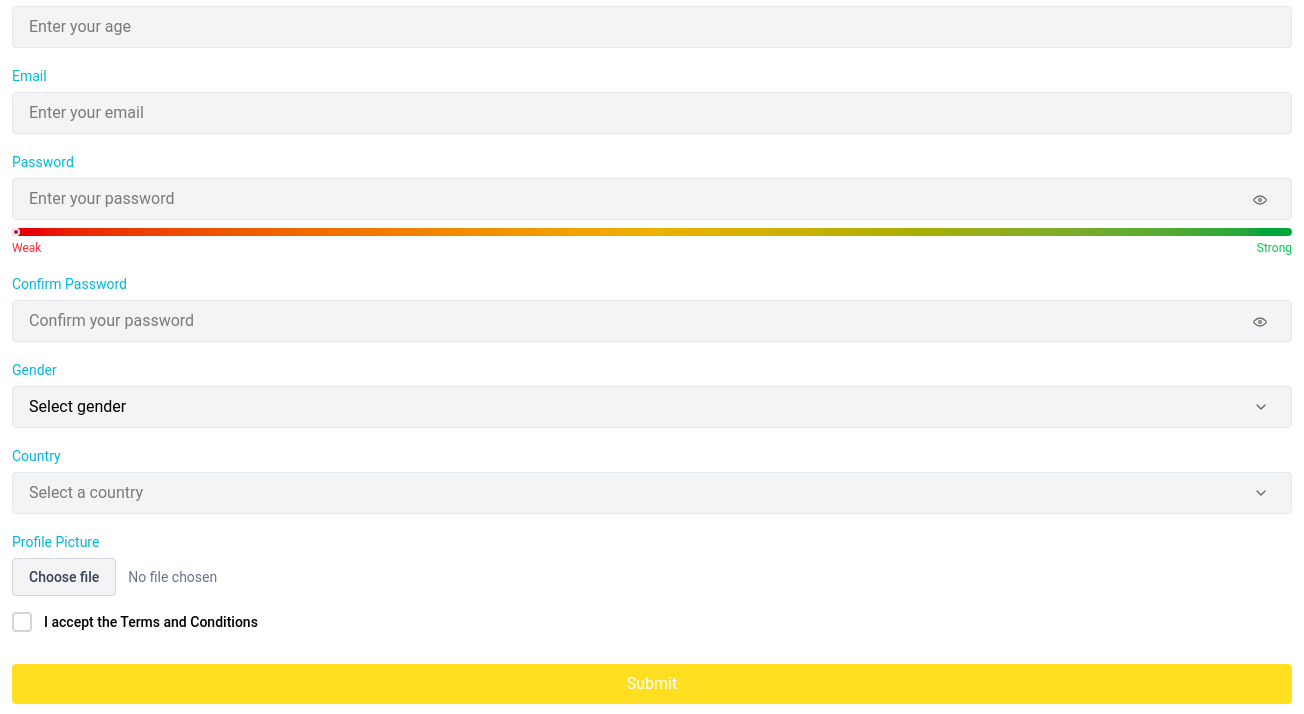
UncontrolledForm form validation shows errors for invalid data
This screenshot has width=1304, height=714.
(page scrolled)
Expected: the text "Age must be at least 18 years old" is not shown
Expected: the text "Enter a valid email address" is not shown
Click the button "Submit" at x=652, y=684, box [12,664,1292,704]
(page scrolled)
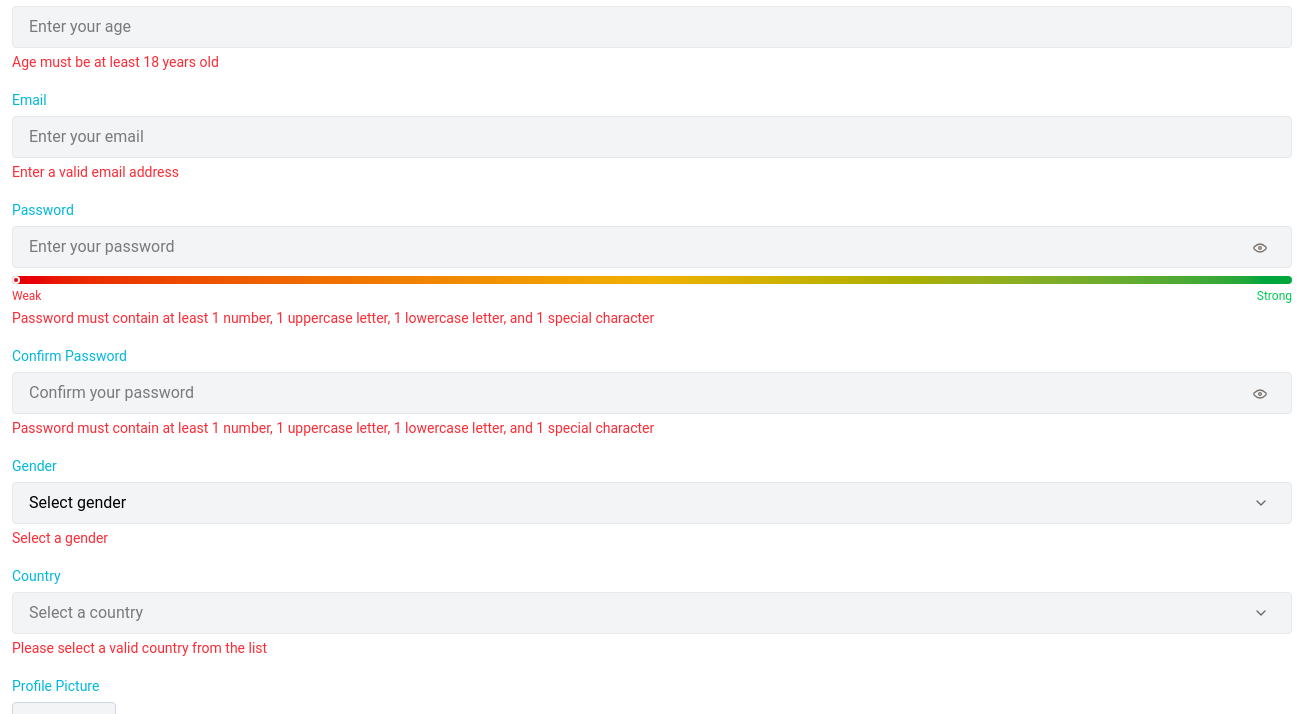
Expected: the text "Age must be at least 18 years old" is shown, [12,54,219,70]
Expected: the text "Enter a valid email address" is shown, [12,164,179,180]
